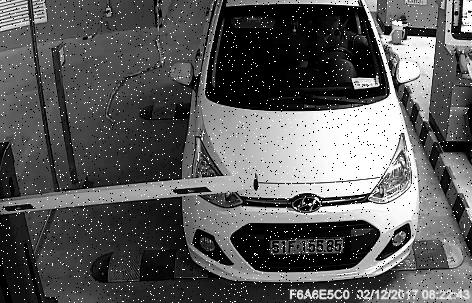License-plate: (265, 231, 352, 264)
